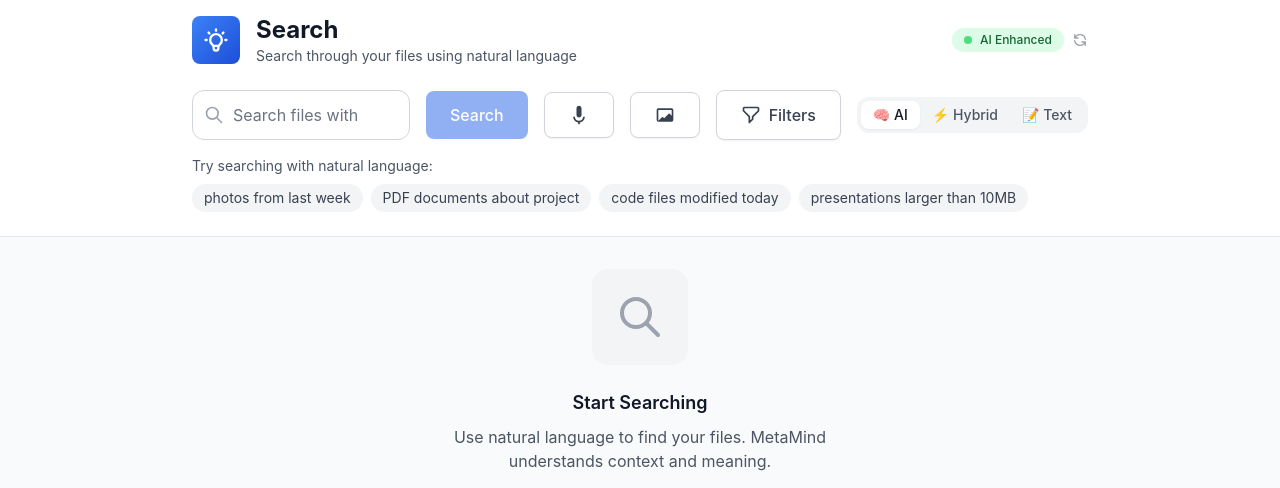
it: SearchInterface Component › displays search suggestions when available
Focus the field with placeholder "Search files with natural language..." at (301, 115), box [192, 90, 410, 140]
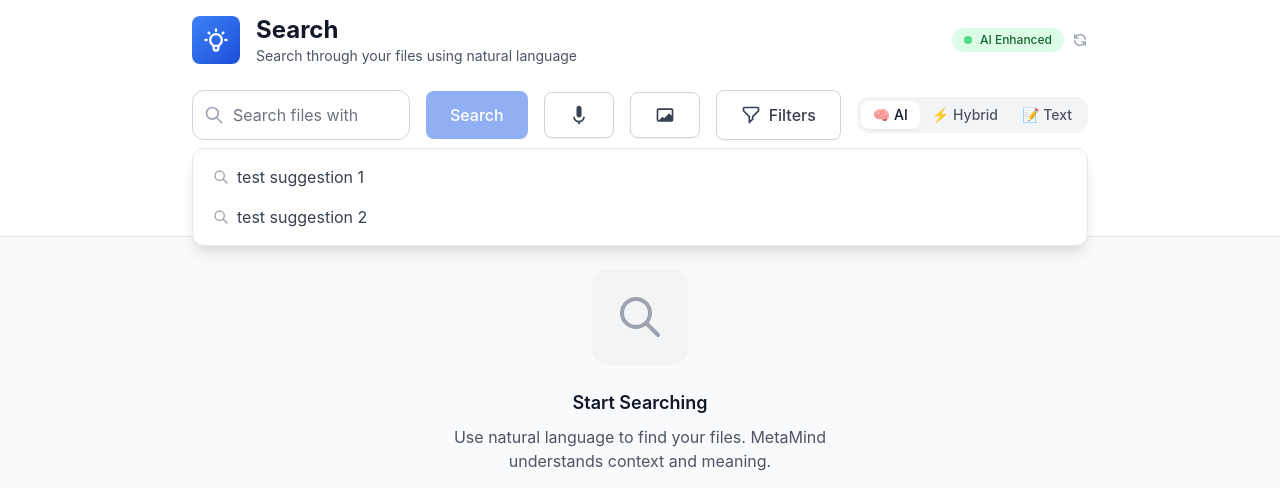
Result: the text "test suggestion 1" is shown at [237, 165, 364, 189]
Result: the text "test suggestion 2" is shown at [237, 205, 367, 229]
